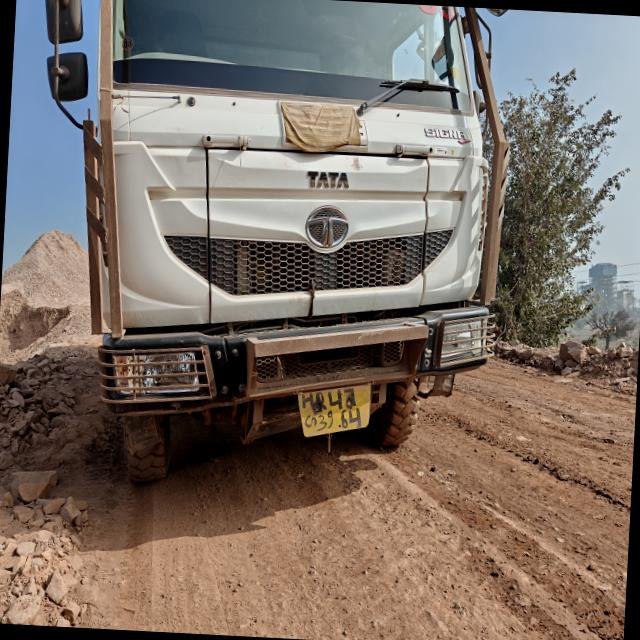license_plate: (298, 385, 371, 437)
